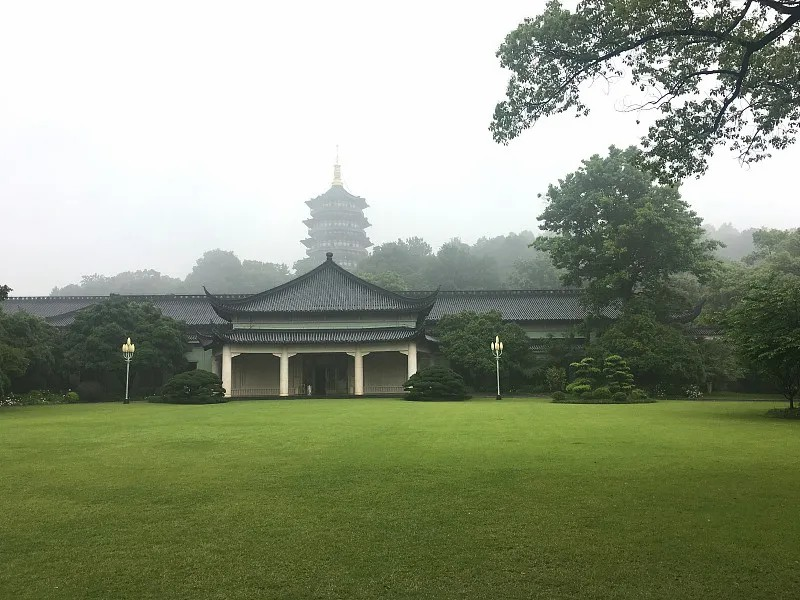Leifeng: (293, 142, 375, 272)
